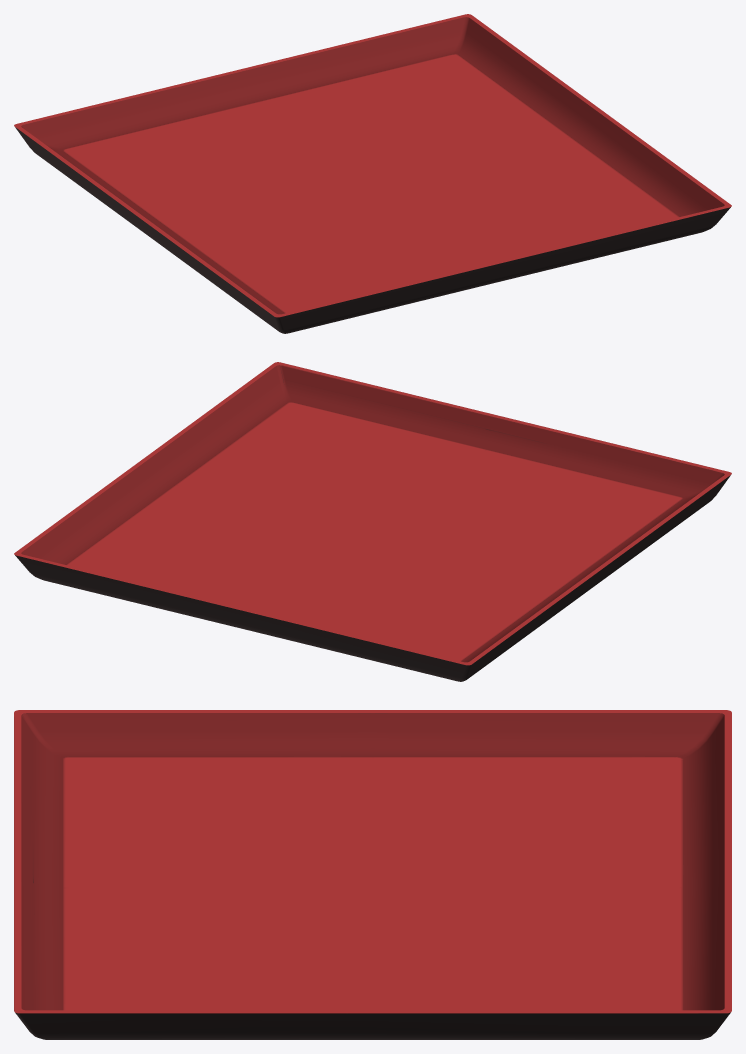
The model's file is おぼん.fbx.
3 renders of one model, top to bottom at view 1: azimuth 30°, elevation 25°; view 2: azimuth 150°, elevation 25°; view 3: azimuth 270°, elevation 25°, orthographic. The views are drawn at different scales.
Visible parts, largest first — view 1: pCube1; view 2: pCube1; view 3: pCube1.
Boxes of the visible parts, left/top/right/bottom form: pCube1: left=14, top=14, right=731, bottom=333; pCube1: left=14, top=362, right=731, bottom=681; pCube1: left=14, top=710, right=731, bottom=1039.
Bounding box in the file's own units: 7.51 × 0.4866 × 7.51.
1 material, 1 textured.
